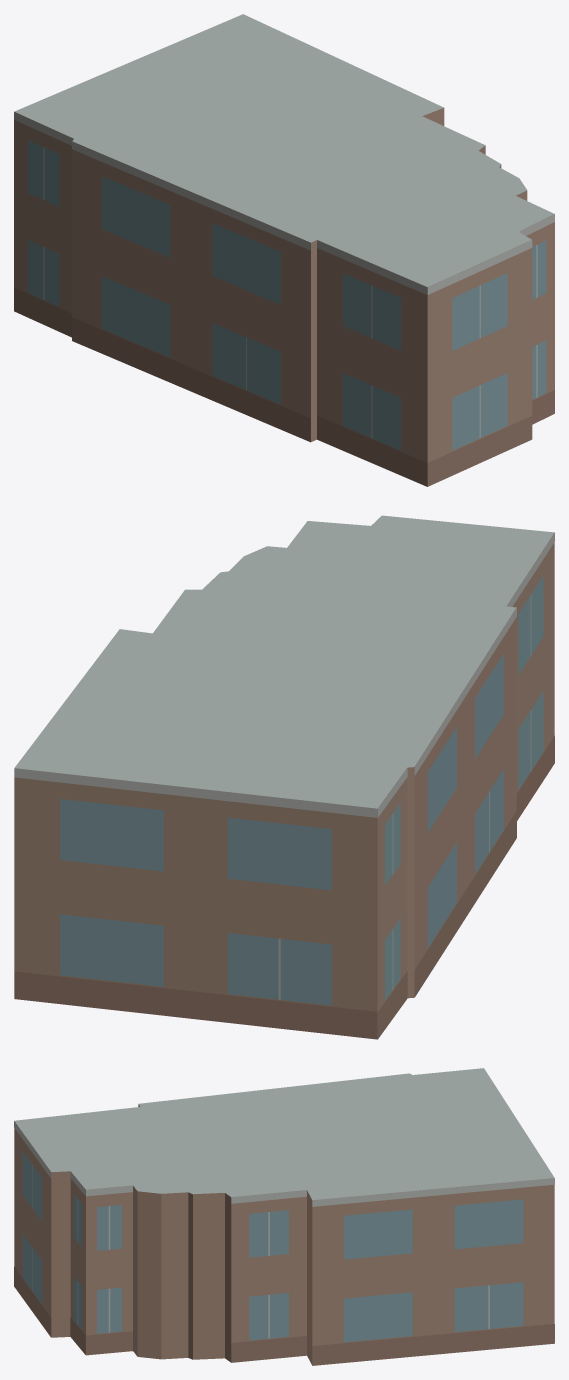
File: survey-upis-32623850.glb
The picture shows the model from 3 angles, top to bottom: view 1: azimuth 30°, elevation 25°; view 2: azimuth 150°, elevation 25°; view 3: azimuth 270°, elevation 25°; orthographic projection. The views are drawn at different scales.
Visible parts, largest first — view 1: survey-upis-32623850.tmp; view 2: survey-upis-32623850.tmp; view 3: survey-upis-32623850.tmp.
Part boxes in pixels (left/top/right/bottom): survey-upis-32623850.tmp: left=14, top=14, right=554, bottom=486; survey-upis-32623850.tmp: left=14, top=515, right=554, bottom=1039; survey-upis-32623850.tmp: left=14, top=1068, right=554, bottom=1365.
Bounding box in the file's own units: 10.46 × 6.1 × 18.06.
